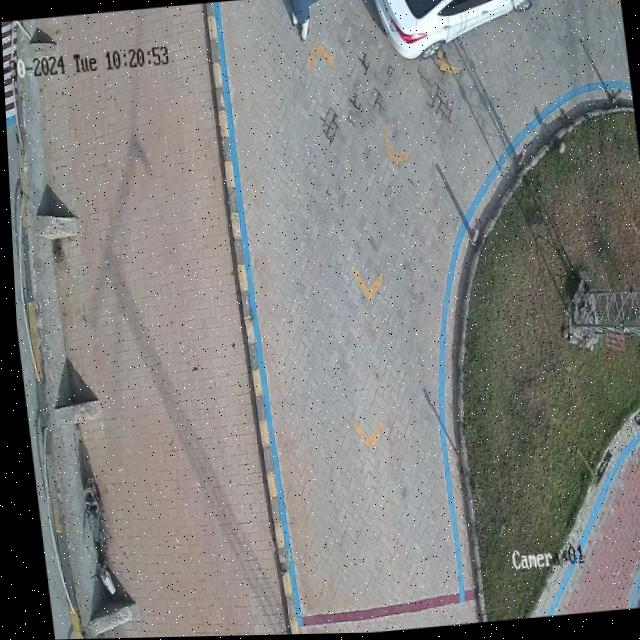car: (374, 0, 536, 60)
